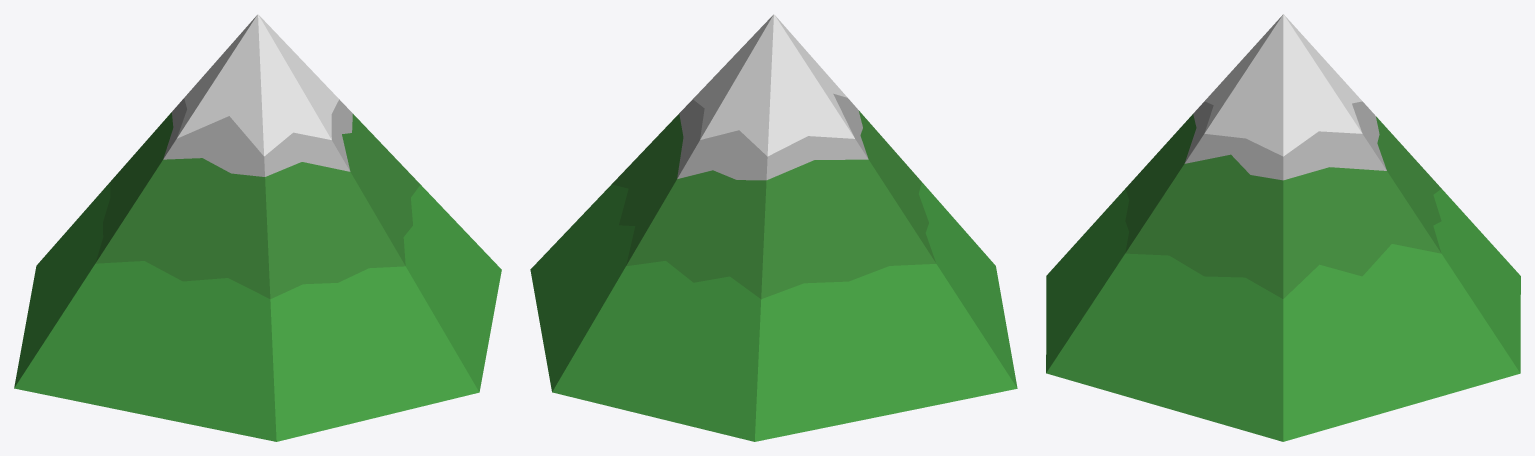
File: Mountain.glb
3 renders of one model, left to right at view 1: azimuth 30°, elevation 25°; view 2: azimuth 150°, elevation 25°; view 3: azimuth 270°, elevation 25°, orthographic.
Visible parts, largest first — view 1: Plane.002; view 2: Plane.002; view 3: Plane.002.
Boxes of the visible parts, box(x1,y1,x2,y2) form: Plane.002: box(14, 14, 501, 441); Plane.002: box(530, 14, 1017, 441); Plane.002: box(1046, 14, 1520, 441).
Size of the model in its own units: 69.5 by 42.94 by 59.46.
